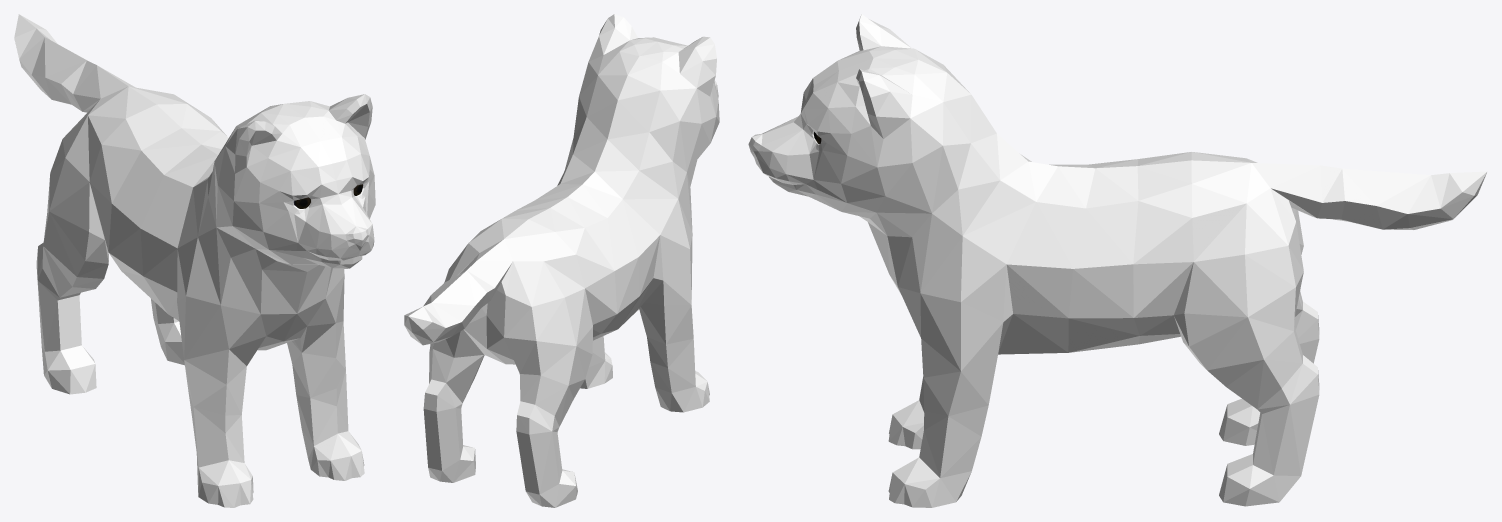
Rendered from F2_Dog_Sib.obj.
3 renders of one model, left to right at view 1: azimuth 30°, elevation 25°; view 2: azimuth 150°, elevation 25°; view 3: azimuth 270°, elevation 25°, orthographic. The views are drawn at different scales.
Visible parts, largest first — view 1: vsn_mesh_1__mesh_1_.001; view 2: vsn_mesh_1__mesh_1_.001; view 3: vsn_mesh_1__mesh_1_.001.
Boxes of the visible parts, <box> form: vsn_mesh_1__mesh_1_.001: <box>14,14,375,507</box>; vsn_mesh_1__mesh_1_.001: <box>404,14,719,507</box>; vsn_mesh_1__mesh_1_.001: <box>748,14,1487,507</box>.
Size of the model in its own units: 1.46 by 3.41 by 5.31.
